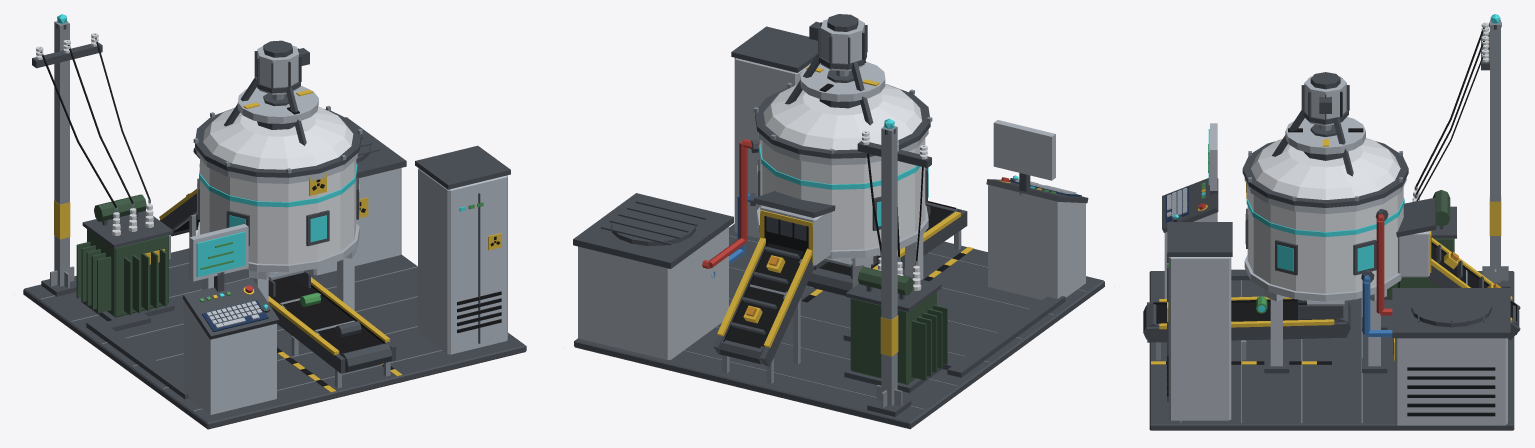
Rendered from centrifugeuse_t4.glb.
3 views of the same model, side by side, from view 1: azimuth 30°, elevation 25°; view 2: azimuth 150°, elevation 25°; view 3: azimuth 270°, elevation 25° (orthographic). The views are drawn at different scales.
Parts seen in each view (by area): view 1: dalle.002, pieces_acier_sombre.002, carter.002, armoire.002, pupitre.002, pieces_noir.002, pieces_acier.002, pieces_vert_fonce.002, pieces_gris_clair.002, groupe_froid.002, pieces_jaune.002, transformateur.002 (+9 smaller); view 2: dalle.002, pieces_acier_sombre.002, carter.002, groupe_froid.002, pupitre.002, pieces_acier.002, pieces_gris_clair.002, pieces_noir.002, armoire.002, transformateur.002, pieces_jaune.002, pieces_vert_fonce.002 (+10 smaller); view 3: dalle.002, pieces_acier_sombre.002, carter.002, armoire.002, groupe_froid.002, pieces_noir.002, pieces_gris_clair.002, pieces_acier.002, ventilateur_cadre.002, pieces_jaune.002, bride_couvercle.002, rotor_gris_clair.002 (+10 smaller).
Part boxes in pixels (<box>): dalle.002: <box>23,248,526,429</box>; pieces_acier_sombre.002: <box>32,21,510,399</box>; carter.002: <box>200,106,356,272</box>; armoire.002: <box>418,168,507,354</box>; pupitre.002: <box>184,301,276,414</box>; pieces_noir.002: <box>39,34,501,386</box>; pieces_acier.002: <box>41,21,508,411</box>; pieces_vert_fonce.002: <box>76,194,167,315</box>; pieces_gris_clair.002: <box>189,45,356,328</box>; groupe_froid.002: <box>307,168,401,275</box>; pieces_jaune.002: <box>54,164,501,392</box>; transformateur.002: <box>87,229,168,317</box>; dalle.002: <box>574,224,1104,429</box>; pieces_acier_sombre.002: <box>573,14,1088,416</box>; carter.002: <box>760,84,925,259</box>; groupe_froid.002: <box>578,227,728,359</box>; pupitre.002: <box>988,185,1085,299</box>; pieces_acier.002: <box>683,82,1086,409</box>; pieces_gris_clair.002: <box>820,19,1076,287</box>; pieces_noir.002: <box>723,132,965,348</box>; armoire.002: <box>734,58,810,238</box>; transformateur.002: <box>850,292,936,384</box>; pieces_jaune.002: <box>717,180,1042,356</box>; pieces_vert_fonce.002: <box>858,267,947,380</box>; dalle.002: <box>1149,271,1514,430</box>; pieces_acier_sombre.002: <box>1143,22,1520,401</box>; carter.002: <box>1247,138,1403,302</box>; armoire.002: <box>1168,257,1231,420</box>; groupe_froid.002: <box>1395,338,1507,425</box>; pieces_noir.002: <box>1153,23,1516,416</box>; pieces_gris_clair.002: <box>1167,76,1386,366</box>; pieces_acier.002: <box>1156,20,1508,423</box>; ventilateur_cadre.002: <box>1411,289,1491,327</box>; pieces_jaune.002: <box>1151,181,1512,364</box>; bride_couvercle.002: <box>1242,141,1408,207</box>; rotor_gris_clair.002: <box>1285,117,1365,154</box>.
Size of the model in its own units: 1.5 by 1.22 by 1.5.
